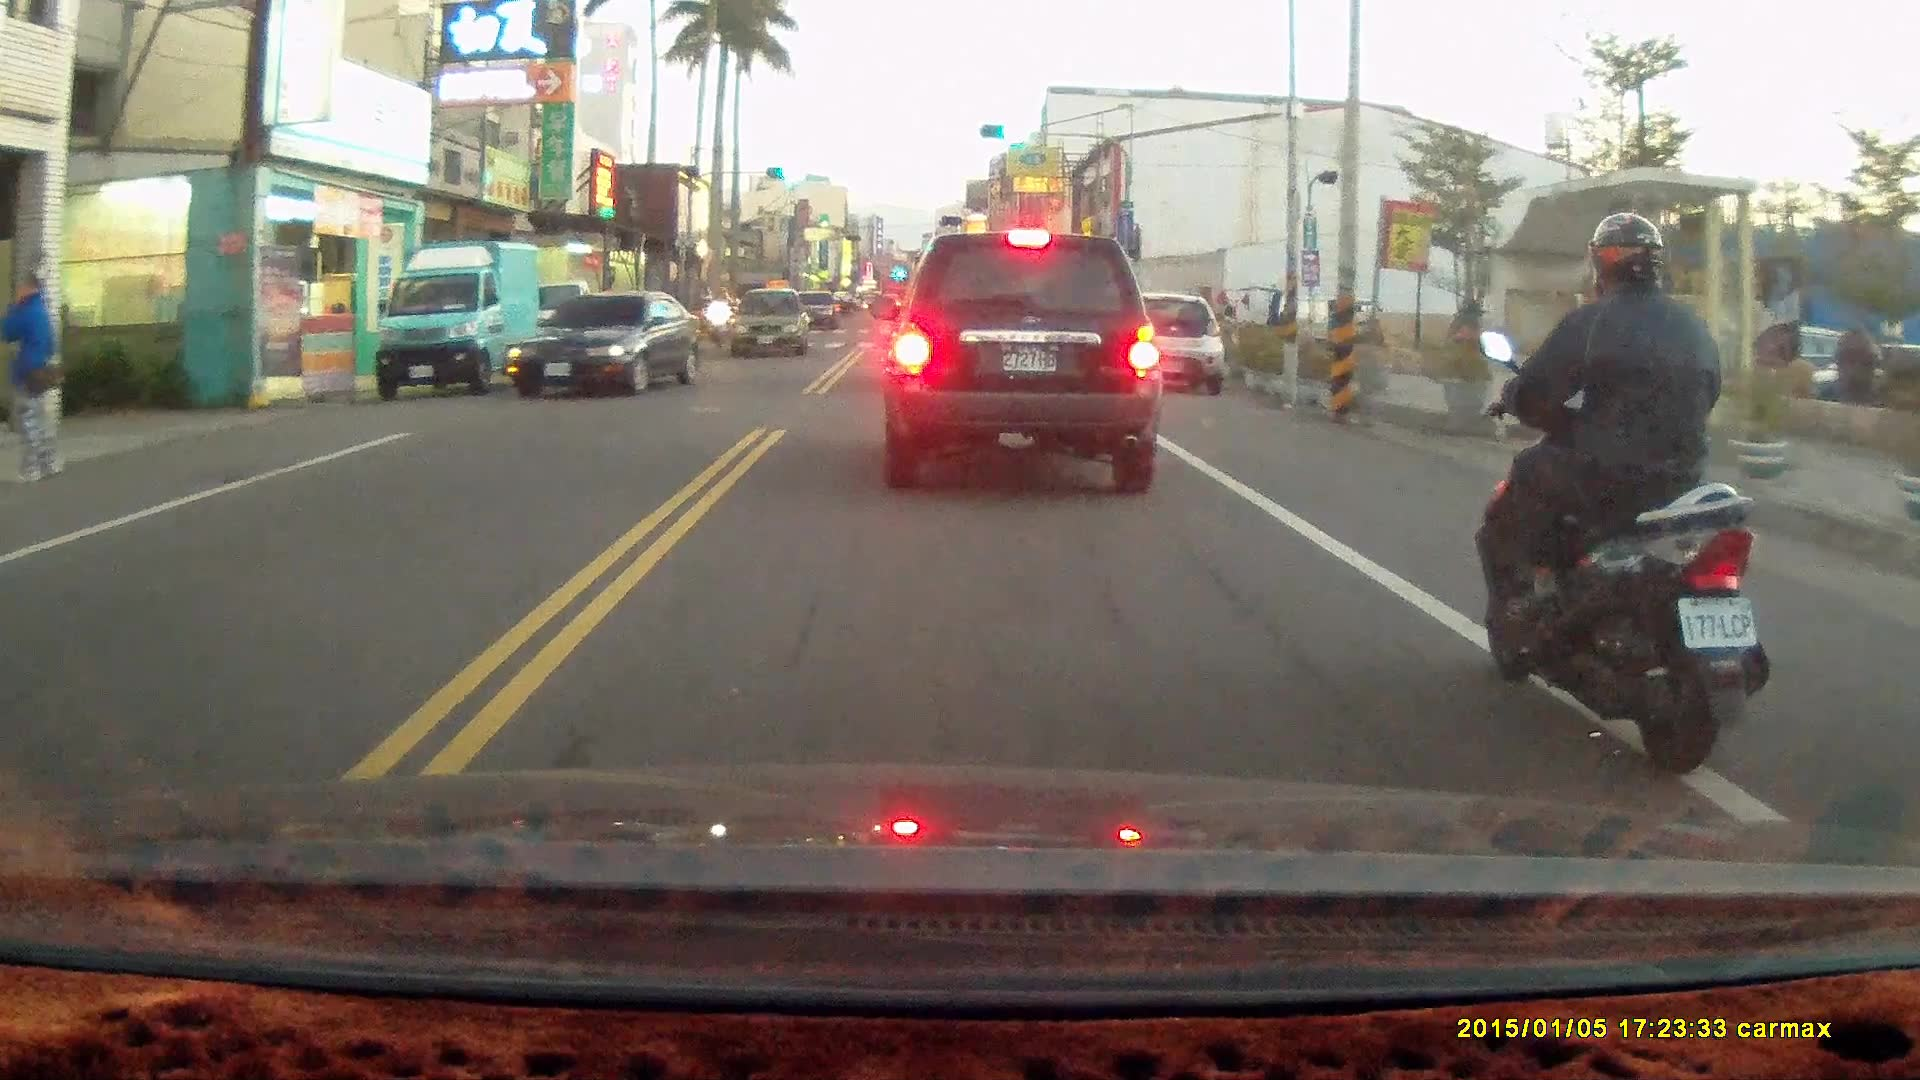pedestrian: (0, 266, 61, 484)
rider: (1472, 206, 1770, 773), (706, 283, 736, 348)
vehicle: (878, 229, 1163, 496), (373, 239, 542, 402), (511, 290, 706, 397), (1115, 290, 1229, 398), (728, 288, 813, 362)
